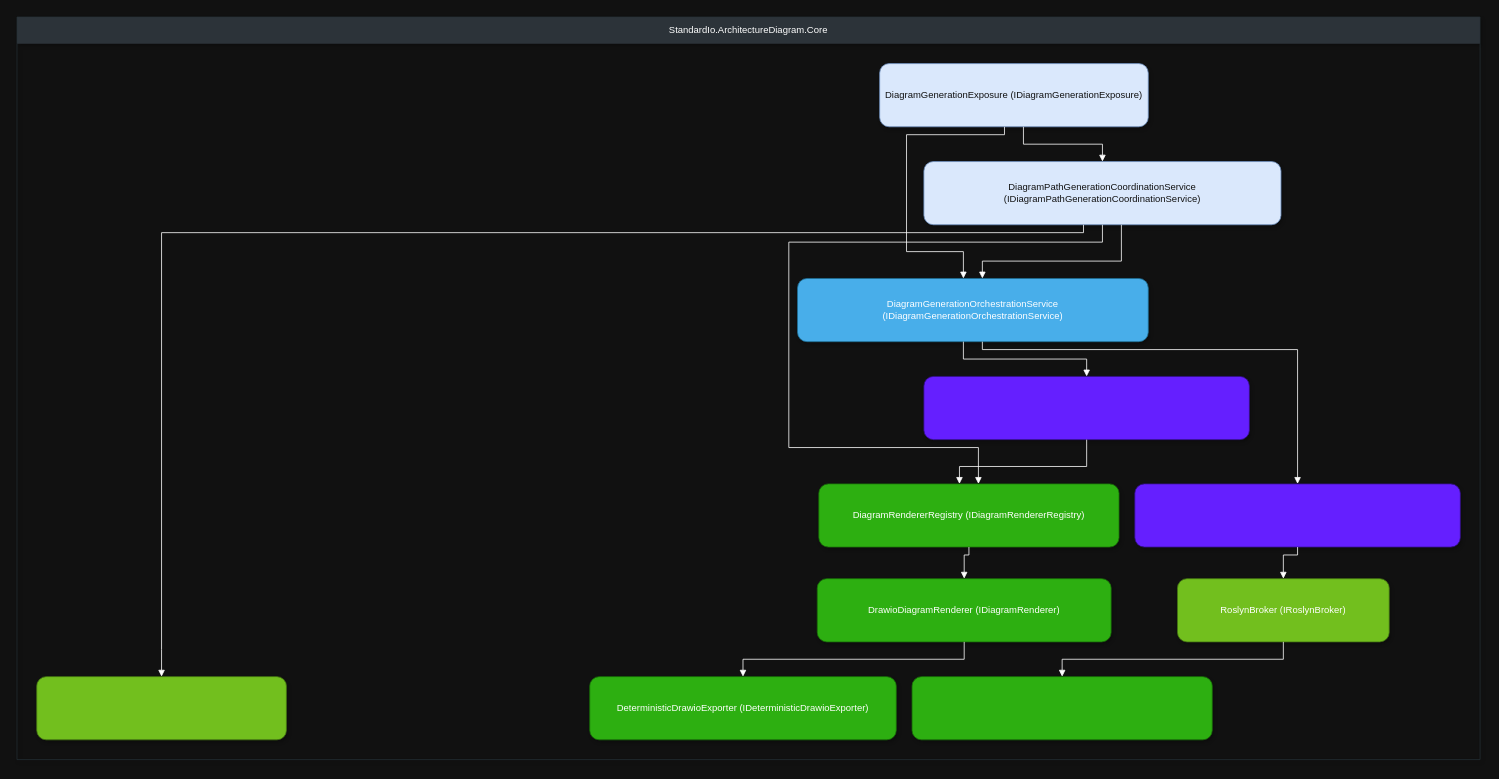
The diagram is 1499 pixels wide and 779 high, and some of its shapes have lost their labels. Here are the shapes that lost their labels. From the top down, the centre of each, then its label:
At (x=1087, y=408): "DiagramRenderingProcessingService (IDiagramRenderingProcessingService)".
At (x=1298, y=516): "DiagramAnalysisProcessingService (IDiagramAnalysisProcessingService)".
At (x=162, y=709): "WorkspacePathBroker (IWorkspacePathBroker)".
At (x=1062, y=709): "RoslynDependencyAnalyzer (IRoslynDependencyAnalyzer)".
